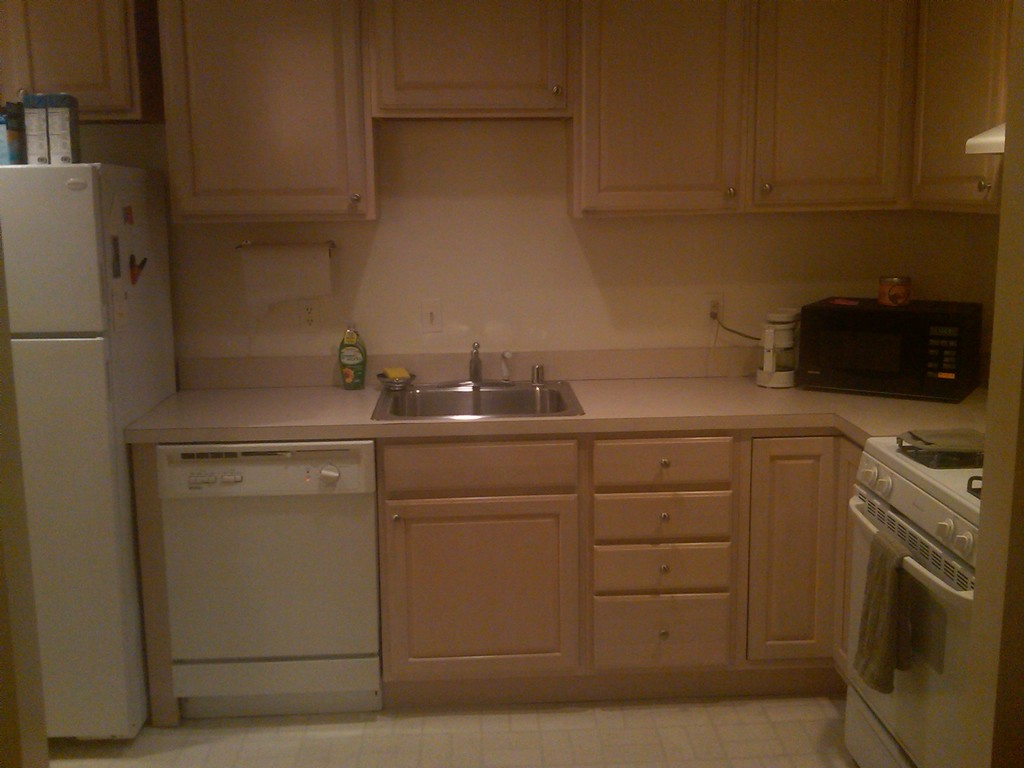cabinet door: (171, 3, 374, 214), (578, 16, 750, 203), (385, 501, 572, 662), (754, 15, 903, 203), (375, 9, 567, 109), (919, 22, 1002, 203), (27, 7, 131, 105), (598, 591, 726, 666), (598, 493, 726, 545), (595, 438, 728, 484), (594, 545, 728, 586)
handle: (347, 183, 366, 215), (654, 451, 678, 475), (655, 506, 674, 534), (651, 557, 674, 580), (546, 81, 570, 103), (719, 181, 743, 203), (966, 178, 989, 199), (658, 617, 676, 643), (388, 510, 408, 531), (759, 179, 772, 203)
refrigerator door: (22, 346, 126, 742), (7, 170, 104, 338)
